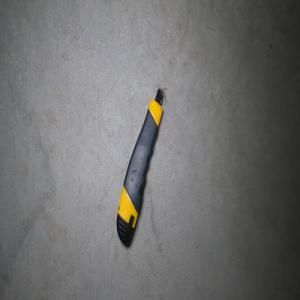Cutter: (115, 87, 165, 246)
